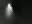person: (7, 3, 14, 19)
